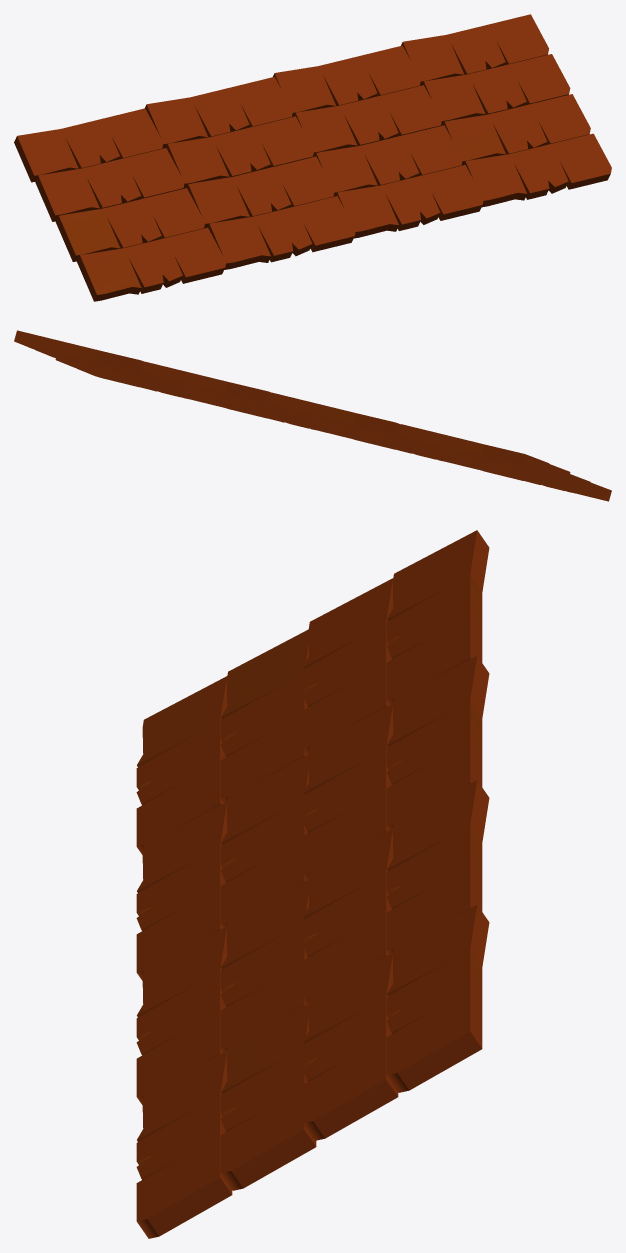
Rendered from SM_Tiles0_LOD0.fbx.
The picture shows the model from 3 angles, top to bottom: view 1: azimuth 30°, elevation 25°; view 2: azimuth 150°, elevation 25°; view 3: azimuth 270°, elevation 25°; orthographic projection. The views are drawn at different scales.
Parts seen in each view (by area): view 1: SM_Tiles0_LOD0; view 2: SM_Tiles0_LOD0; view 3: SM_Tiles0_LOD0.
Part boxes in pixels (<box>): SM_Tiles0_LOD0: <box>14,14,611,301</box>; SM_Tiles0_LOD0: <box>14,330,611,501</box>; SM_Tiles0_LOD0: <box>136,530,489,1238</box>.
Bounding box in the file's own units: 14.98 × 3 × 4.46.
